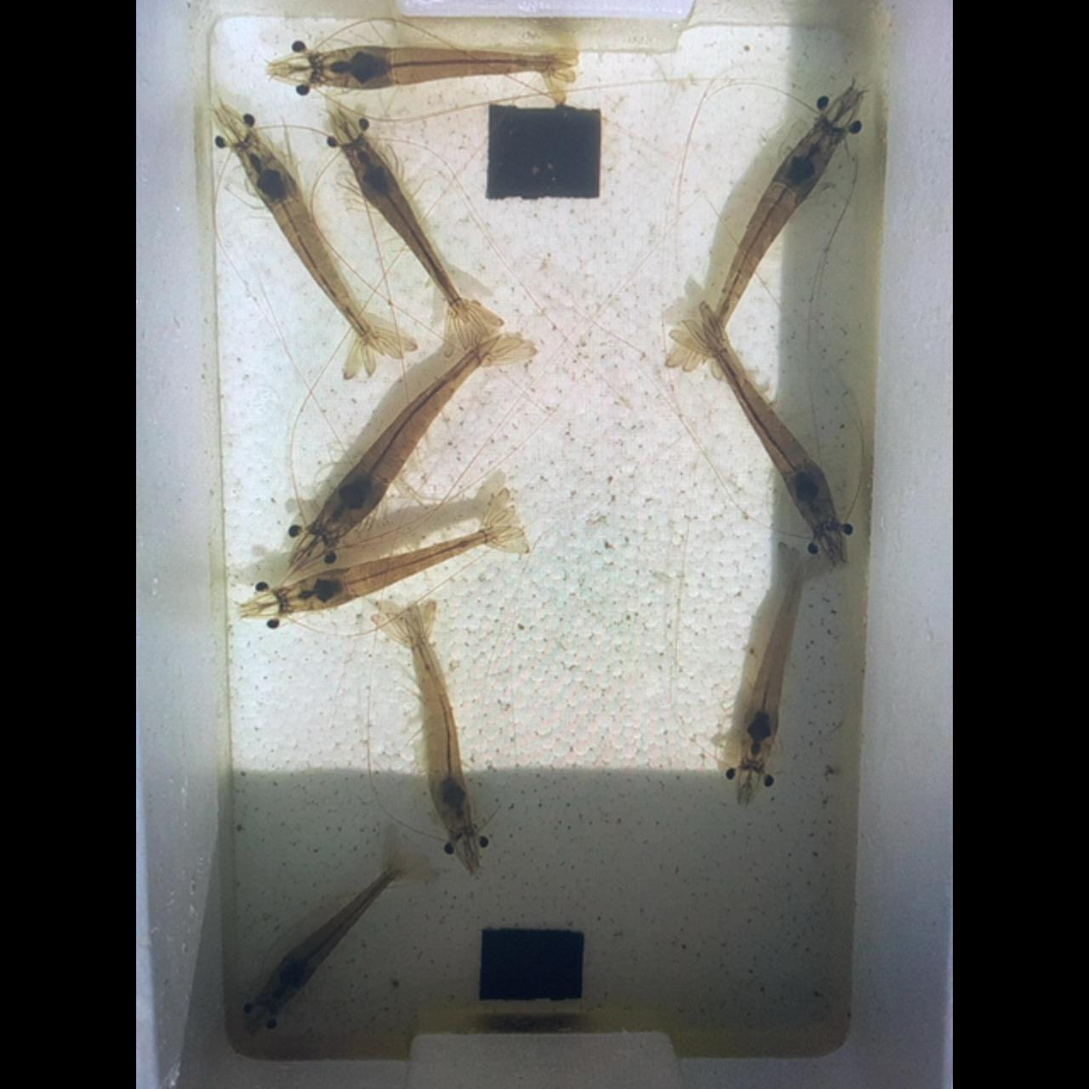box: (487, 105, 601, 201), (480, 927, 584, 999)
top_shrimp: (315, 334, 503, 539), (238, 138, 378, 351), (701, 126, 837, 340), (699, 313, 835, 527), (345, 140, 468, 318), (259, 861, 400, 1007), (291, 529, 495, 611), (735, 558, 801, 762), (408, 624, 471, 830), (313, 48, 562, 87)
